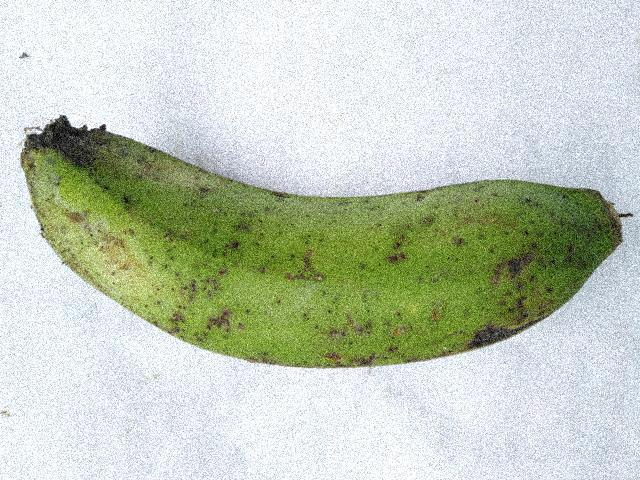unripe: (16, 88, 639, 400)
